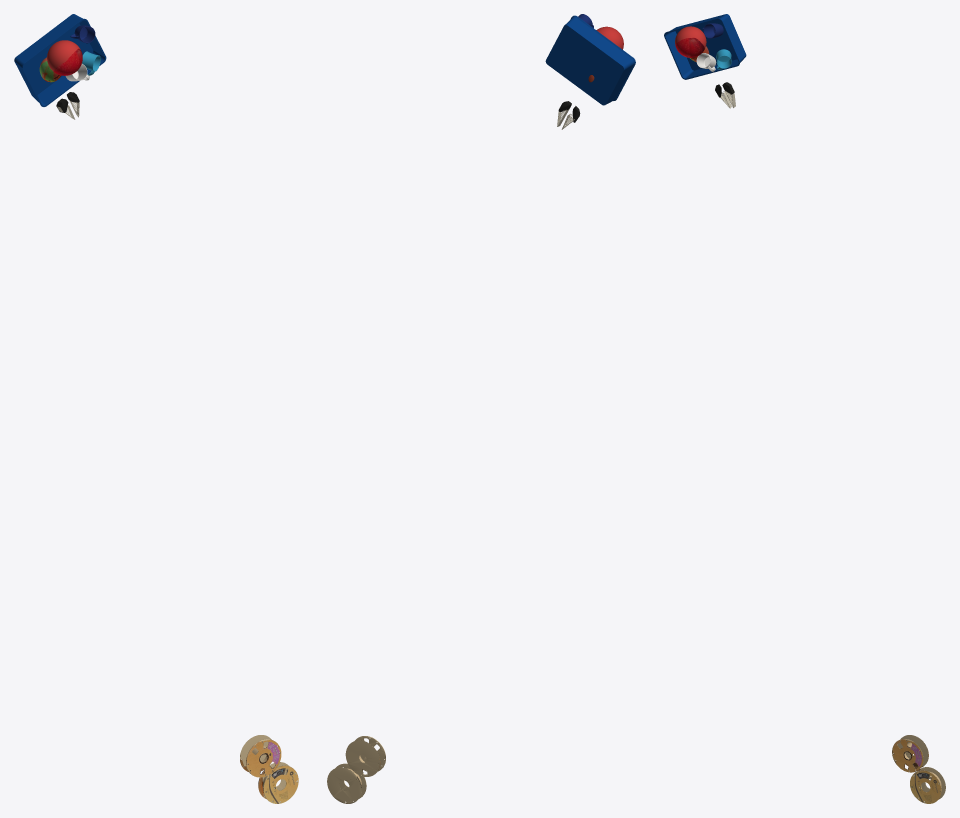
The model's file is props-7.glb.
The picture shows the model from 3 angles, left to right: view 1: azimuth 30°, elevation 25°; view 2: azimuth 150°, elevation 25°; view 3: azimuth 330°, elevation 25°; orthographic projection. The views are drawn at different scales.
Parts seen in each view (by area): view 1: HCRG_Tray1319_SourceFit01_OpenShell_001, part0_photo0_001, part0_photo0, part0_fallback_015; view 2: HCRG_Tray1319_SourceFit01_OpenShell_001, part1_fallback, part1_fallback_001; view 3: HCRG_Tray1319_SourceFit01_OpenShell_001, part0_photo0_001, part0_photo0.
Boxes of the visible parts, bbox=[...] form: HCRG_Tray1319_SourceFit01_OpenShell_001: bbox=[14, 14, 106, 106]; part0_photo0_001: bbox=[263, 765, 298, 803]; part0_photo0: bbox=[246, 739, 281, 777]; part0_fallback_015: bbox=[47, 40, 80, 71]; HCRG_Tray1319_SourceFit01_OpenShell_001: bbox=[545, 15, 635, 105]; part1_fallback: bbox=[345, 740, 379, 776]; part1_fallback_001: bbox=[327, 767, 361, 803]; HCRG_Tray1319_SourceFit01_OpenShell_001: bbox=[664, 14, 746, 79]; part0_photo0_001: bbox=[910, 771, 941, 803]; part0_photo0: bbox=[892, 740, 923, 772].
Size of the model in its own units: 1.67 by 4.61 by 0.3867.
41 materials, 18 textured.
